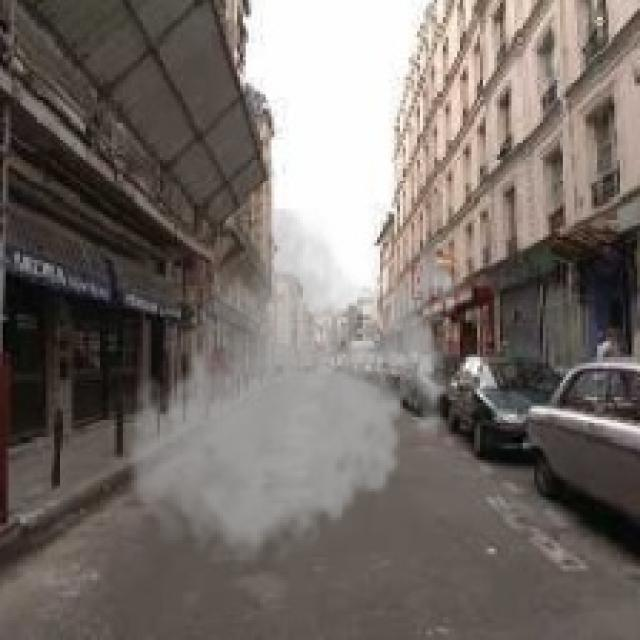smoke: (120, 208, 469, 572)
